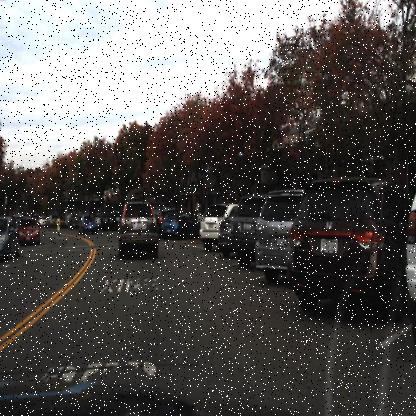car: (287, 177, 415, 326), (255, 179, 303, 287), (227, 188, 263, 273), (115, 200, 164, 261), (198, 194, 238, 253), (159, 205, 199, 242), (0, 211, 21, 266), (0, 214, 22, 260), (17, 213, 40, 253), (76, 209, 102, 238), (217, 211, 233, 256)
